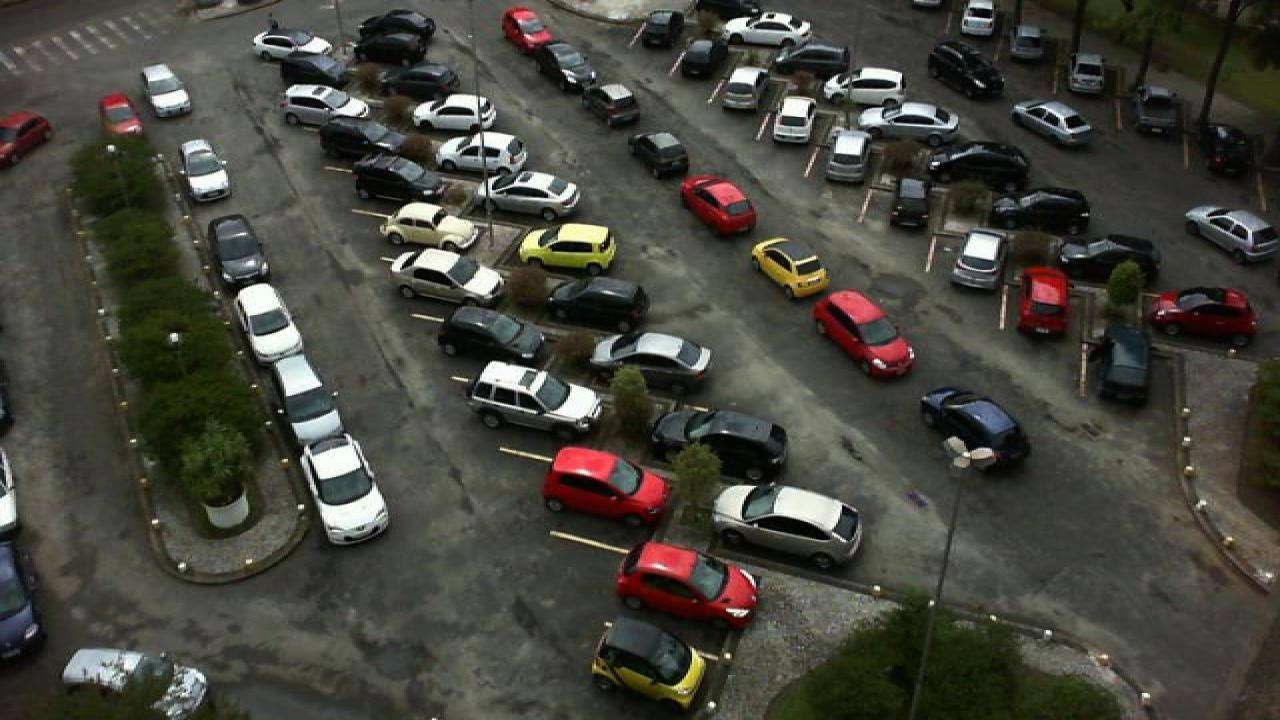Car: (710, 481, 868, 570), (612, 540, 764, 632), (586, 615, 718, 718), (462, 357, 610, 441), (648, 404, 792, 484), (538, 443, 672, 528), (58, 646, 210, 720), (296, 434, 392, 548), (918, 385, 1032, 475), (262, 346, 350, 452), (584, 330, 720, 393), (430, 302, 550, 366), (388, 246, 510, 308), (544, 272, 652, 336), (1146, 285, 1260, 344), (1050, 230, 1164, 288), (512, 218, 622, 277), (230, 280, 306, 364), (1184, 202, 1280, 266), (348, 150, 460, 204), (984, 182, 1092, 236), (380, 200, 484, 253), (480, 168, 586, 218), (922, 138, 1032, 185), (202, 213, 270, 287), (1092, 324, 1154, 405), (430, 128, 530, 176), (318, 115, 418, 163), (926, 40, 1006, 100), (1012, 264, 1074, 340), (278, 82, 374, 131), (860, 99, 960, 145), (1006, 98, 1096, 147), (946, 225, 1010, 293), (406, 91, 502, 134), (176, 136, 234, 204), (824, 66, 910, 110), (1192, 121, 1254, 182), (720, 11, 814, 47), (380, 61, 462, 101), (820, 127, 874, 187), (138, 61, 194, 118), (250, 27, 338, 62), (770, 42, 850, 80), (1128, 82, 1184, 136), (362, 8, 438, 47), (274, 51, 350, 89), (886, 174, 934, 232), (350, 28, 422, 66), (770, 95, 818, 145), (718, 64, 766, 112), (96, 91, 146, 137), (670, 38, 722, 79), (1064, 50, 1108, 96), (636, 8, 684, 49), (694, 0, 768, 21), (956, 0, 998, 36), (1006, 24, 1048, 60)
